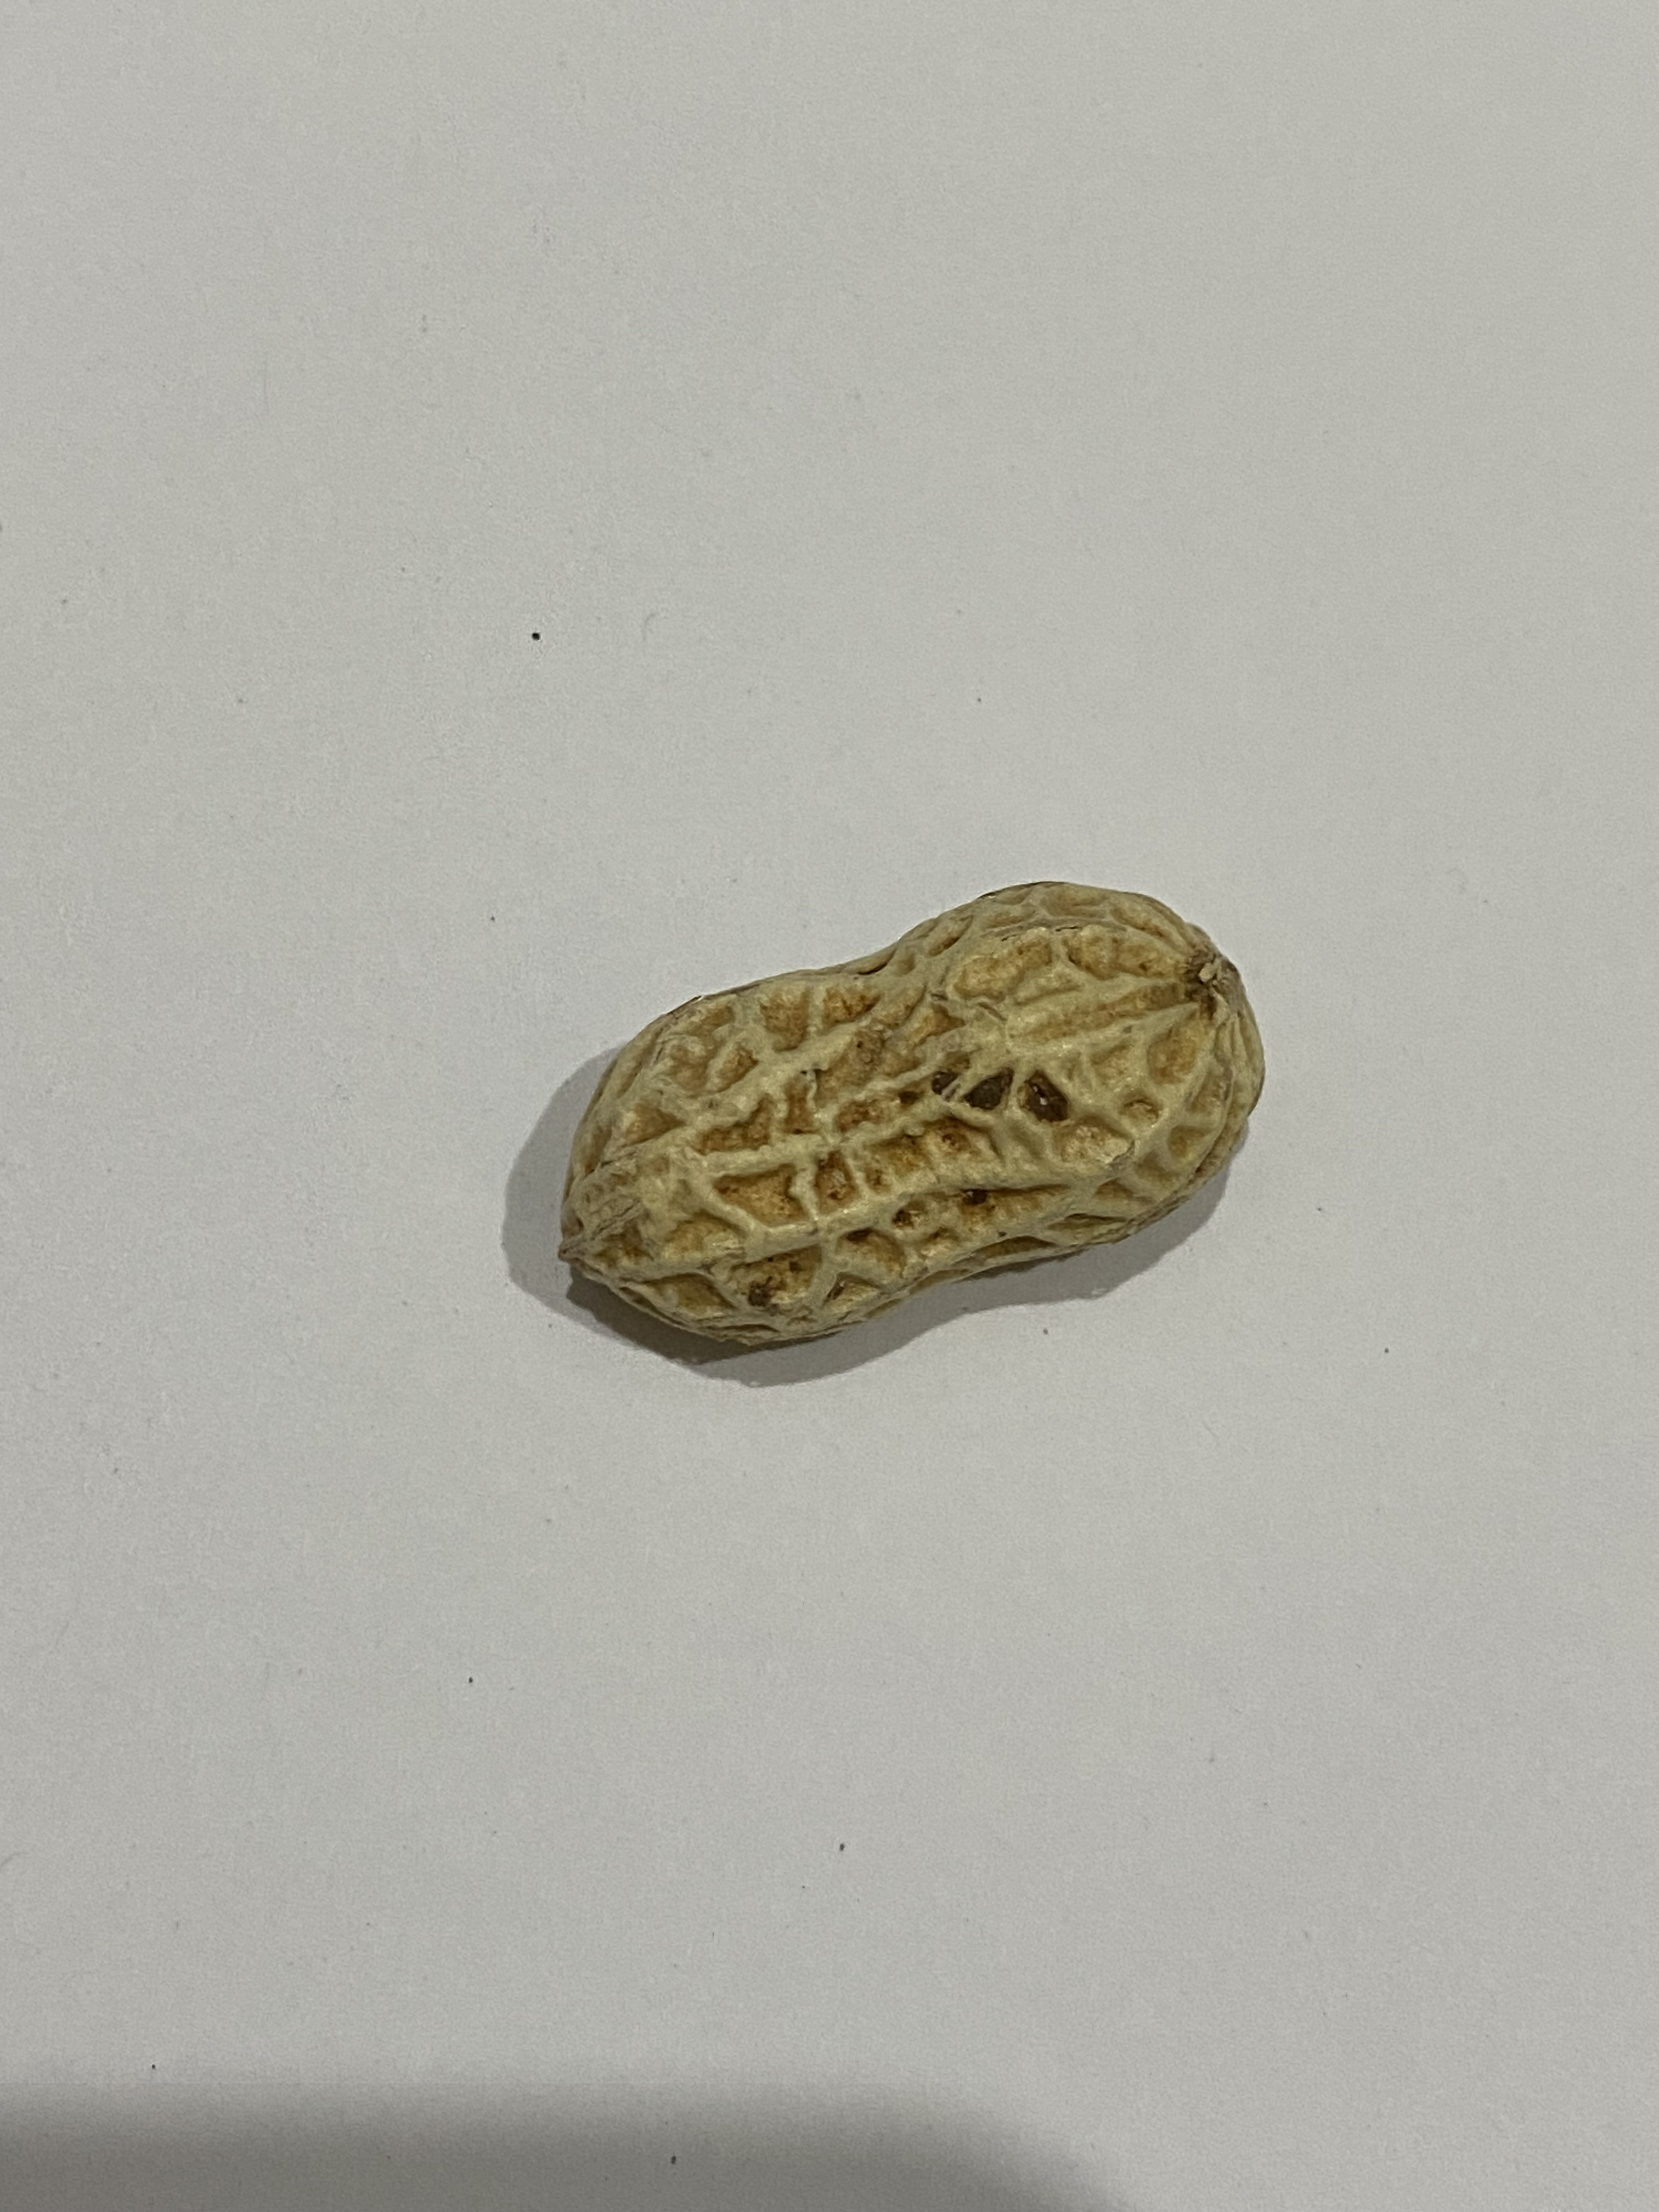kacang2: (495, 848, 1284, 1346)
